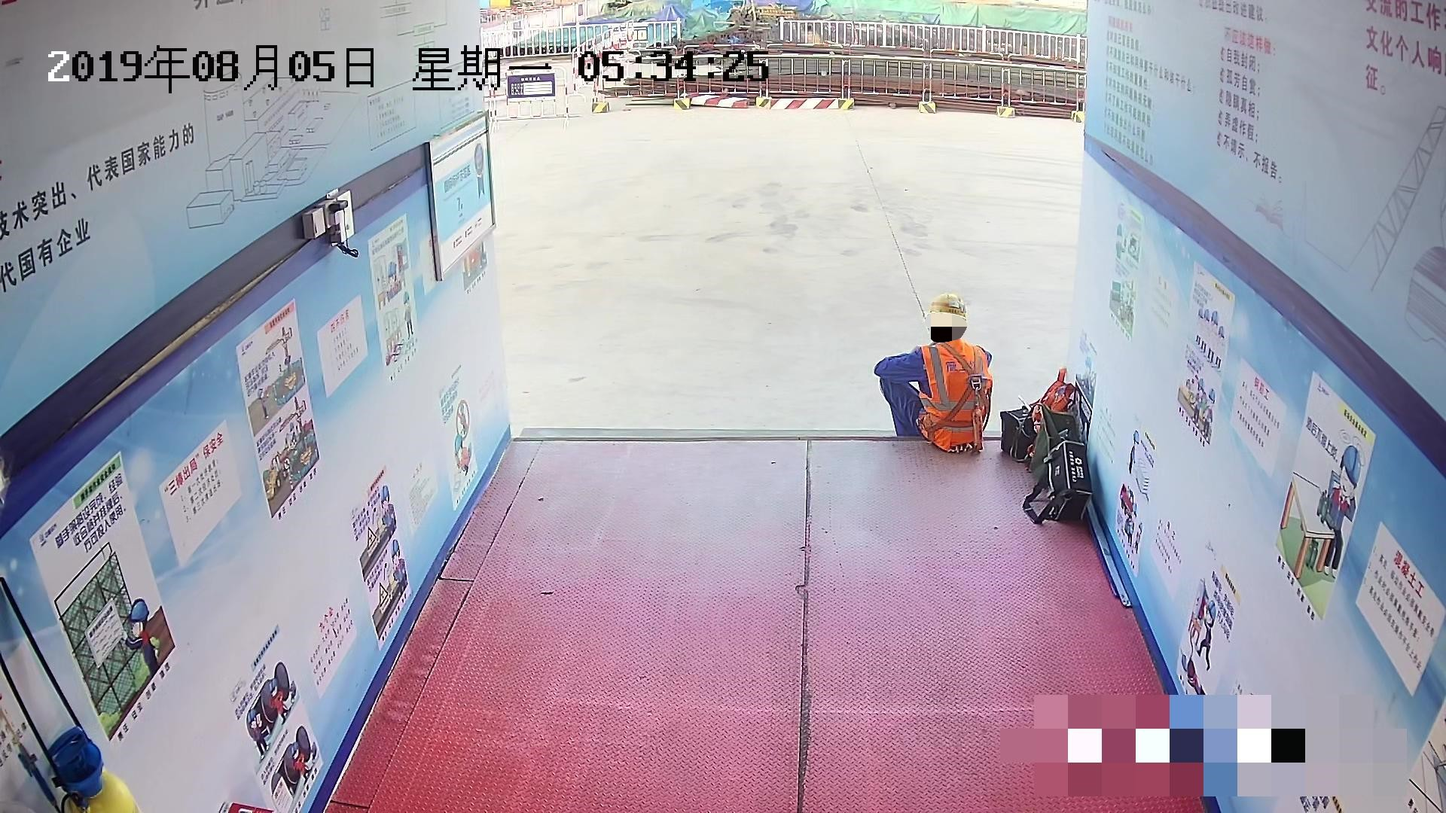hat: (924, 290, 970, 336)
person: (874, 284, 997, 455)
